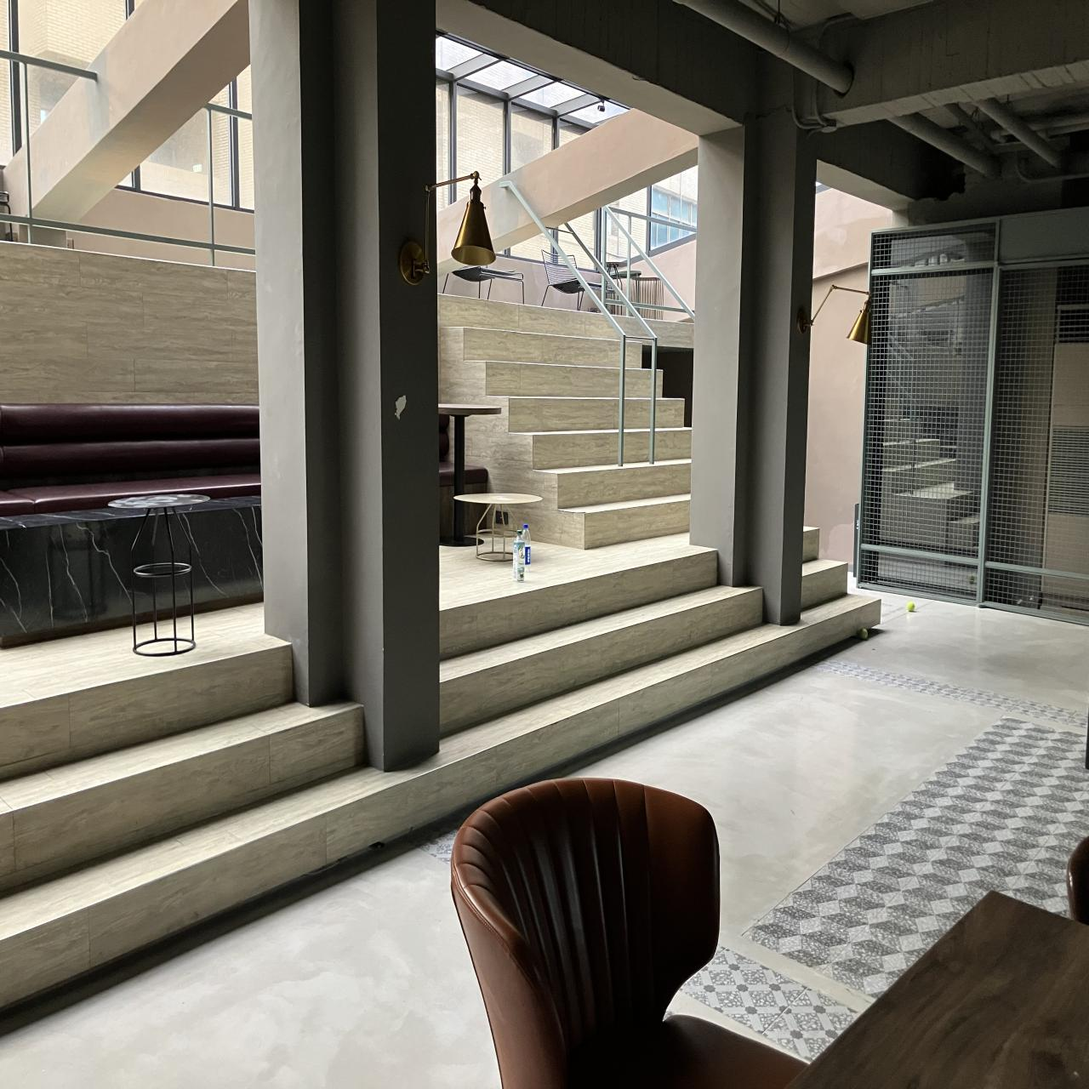plastic-bottle: (513, 531, 526, 582), (522, 524, 531, 567)
tennisball: (858, 629, 868, 640), (908, 601, 915, 612)
